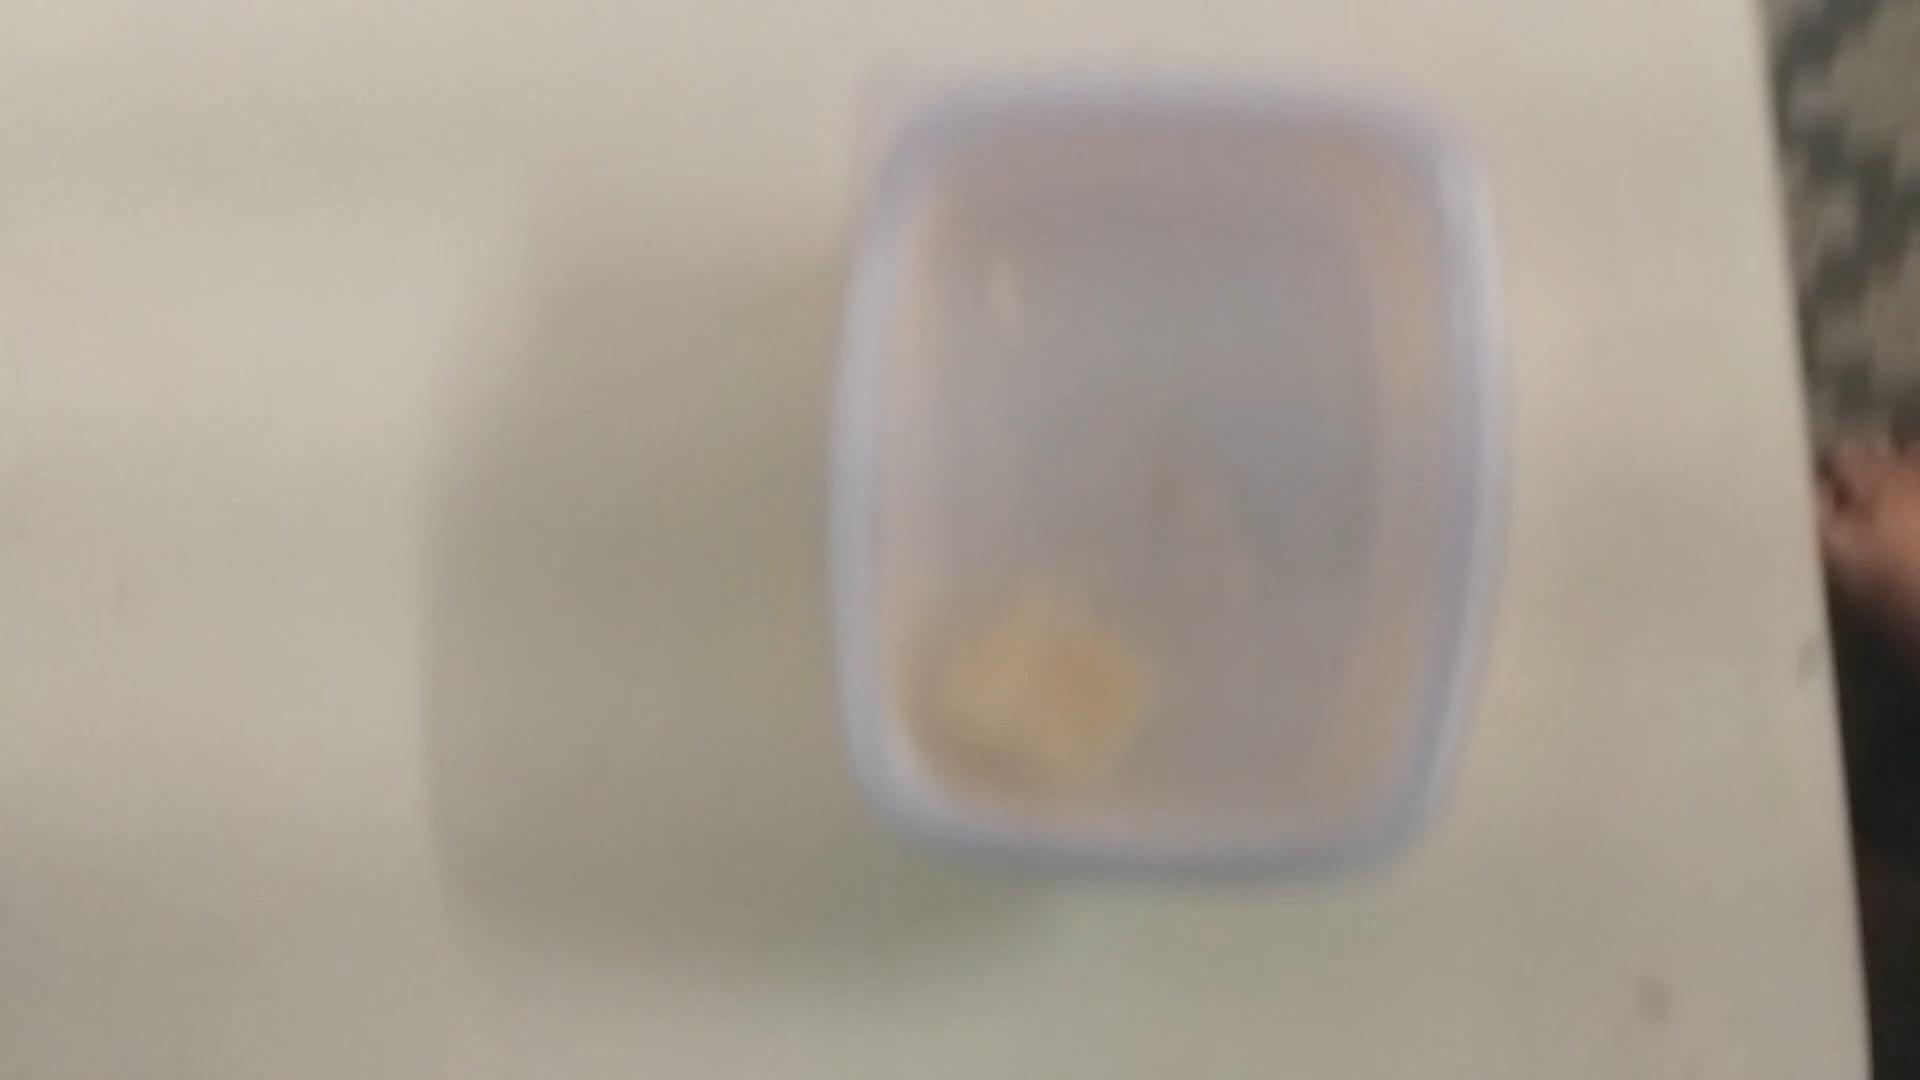butter: (833, 79, 1495, 882)
